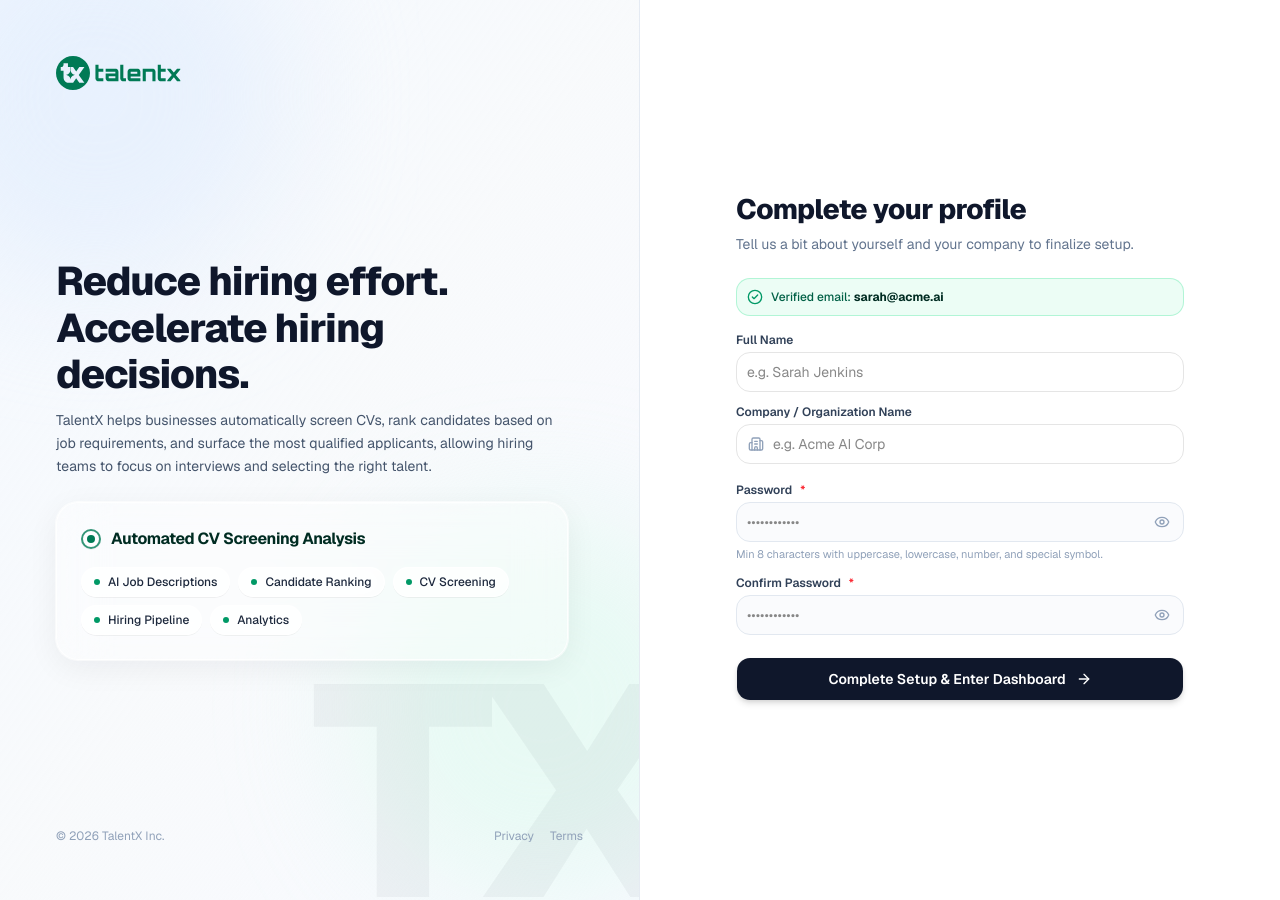
it: Employer Onboarding Page (TX26-191) › shows validation errors when submitting empty profile fields
Click the button "Complete Setup & Enter Dashboard".
click(960, 679)  # box [736,657,1184,701]
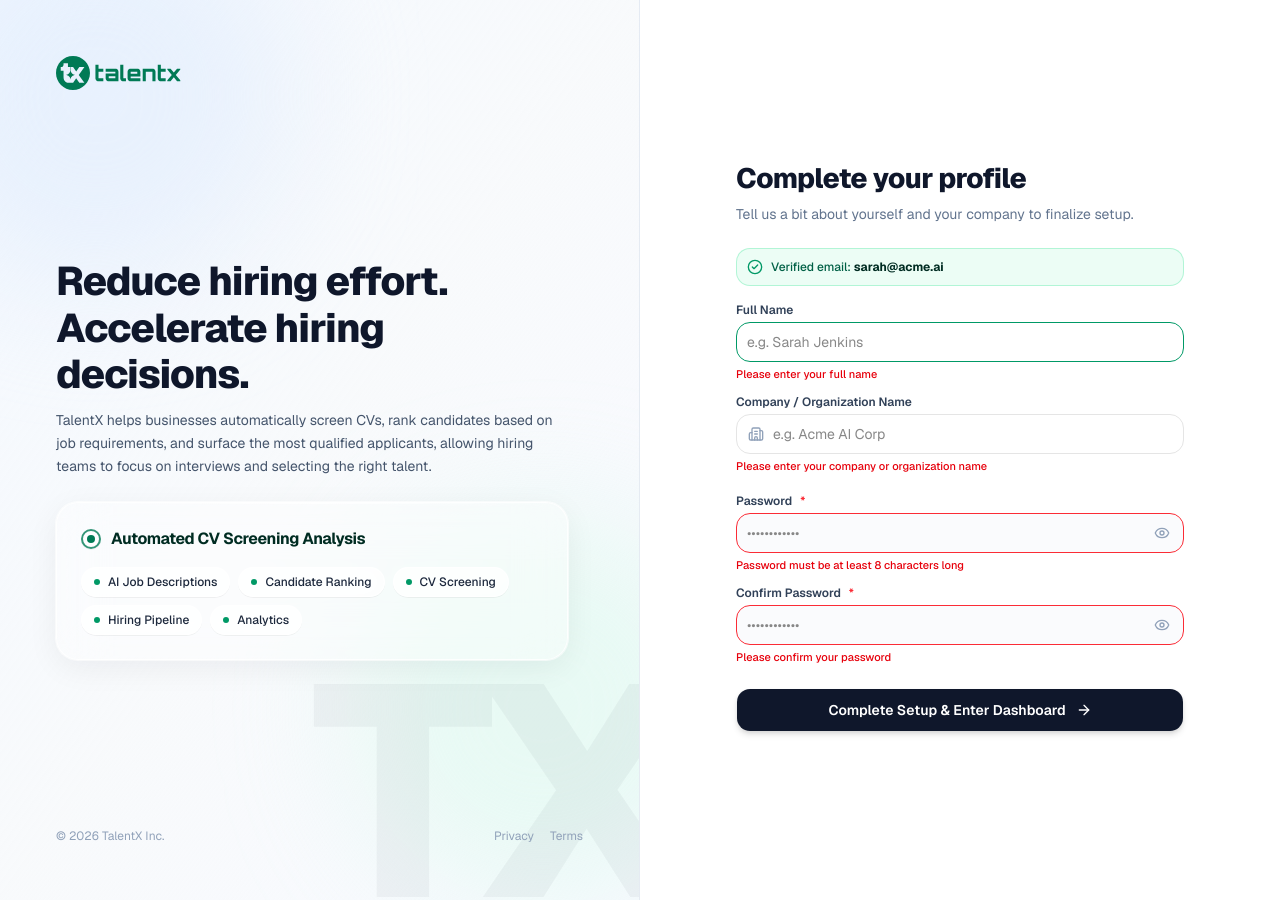
Now the text "Please enter your full name" is shown, box [736,367,877,381]
Now the text "Please enter your company or organization name" is shown, box [736,459,987,473]
Now the text "Password must be at least 8 characters long" is shown, box [736,558,964,572]
